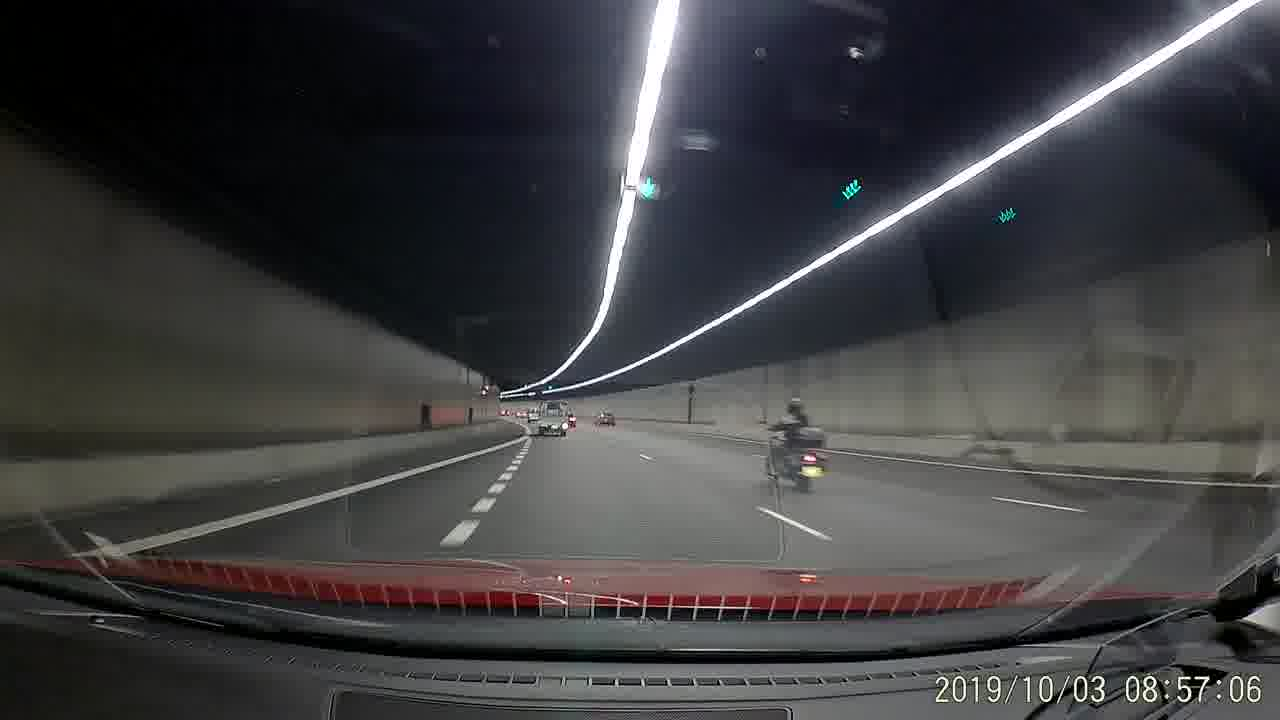car: (592, 411, 615, 427)
